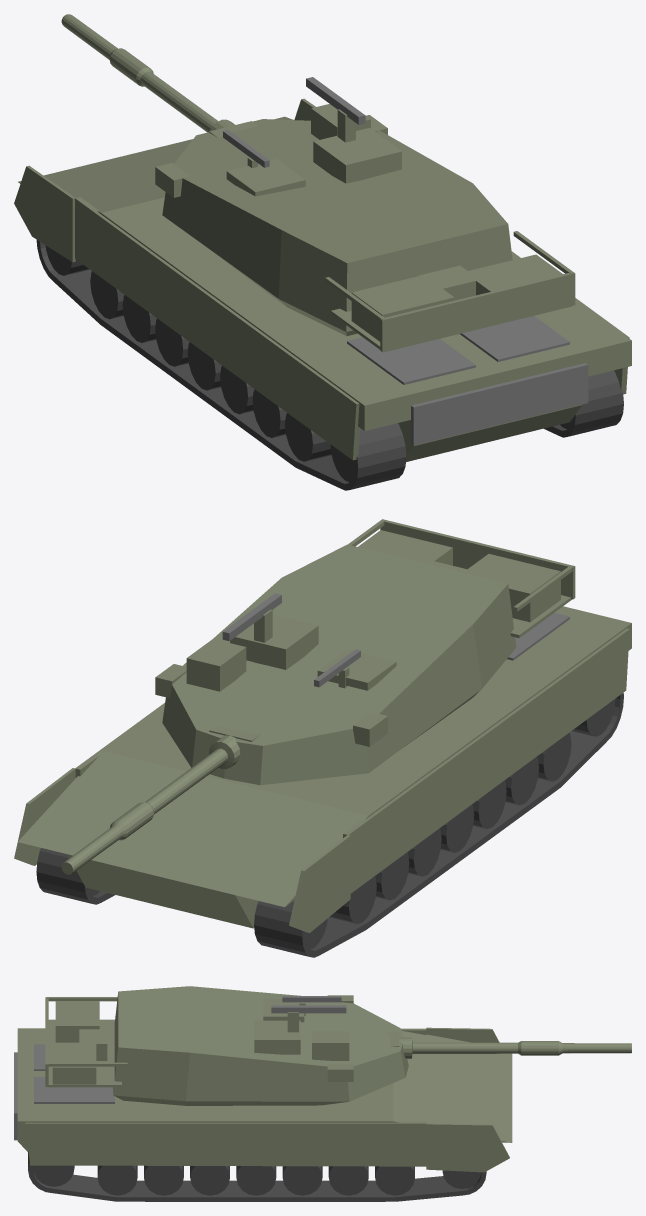
3 renders of one model, top to bottom at view 1: azimuth 30°, elevation 25°; view 2: azimuth 150°, elevation 25°; view 3: azimuth 270°, elevation 25°, orthographic. The views are drawn at different scales.
Parts seen in each view (by area): view 1: Turret, Hull_Upper, Skirt_L, Track_L, Grille_Rear, Rack_Rear, Hull, Skirt_Front_L, Cupola_Cmd, Grille_Deck_L, Barrel, Stowage_Bedroll_L (+16 smaller); view 2: Turret, Hull_Upper, Hull, Skirt_L, Track_L, Barrel, Skirt_Front_L, Stowage_Bedroll_L, Cupola_Cmd, Rack_Rear, Optic_GPS_Doghouse, Track_R (+16 smaller); view 3: Turret, Skirt_R, Hull_Upper, Hull, Track_R, Skirt_Front_R, Barrel, Stowage_Bedroll_R, Stowage_Bedroll_L, Rack_Floor, Grille_Deck_R, Cupola_Cmd (+20 smaller).
Boxes of the visible parts, x1,y1,x2,y2 form: Turret: (162,119,512,335); Hull_Upper: (18,116,631,430); Skirt_L: (75,197,359,460); Track_L: (36,240,406,490); Grille_Rear: (411,363,588,445); Rack_Rear: (380,273,575,351); Hull: (153,149,582,461); Skirt_Front_L: (14,165,75,262); Cupola_Cmd: (313,128,401,183); Grille_Deck_L: (347,337,475,384); Barrel: (61,14,234,132); Stowage_Bedroll_L: (351,275,454,341); Turret: (162,544,516,785); Hull_Upper: (18,606,631,907); Hull: (67,606,581,928); Skirt_L: (343,628,629,893); Track_L: (254,693,623,957); Barrel: (61,735,240,874); Skirt_Front_L: (289,835,350,932); Stowage_Bedroll_L: (463,554,560,622); Cupola_Cmd: (230,614,318,669); Rack_Rear: (380,519,575,599); Optic_GPS_Doghouse: (186,639,246,691); Track_R: (36,848,114,904); Turret: (113,986,408,1105); Skirt_R: (25,1121,426,1166); Hull_Upper: (17,1028,512,1142); Hull: (17,1045,493,1151); Track_R: (28,1151,486,1201); Skirt_Front_R: (426,1123,509,1172); Barrel: (399,1037,631,1058); Stowage_Bedroll_R: (52,1042,96,1084); Stowage_Bedroll_L: (55,1001,99,1042); Rack_Floor: (47,1019,121,1087); Grille_Deck_R: (34,1077,114,1103); Cupola_Cmd: (254,1020,300,1054).
Bounding box in the file's own units: 3.66 × 2.89 × 9.89.
